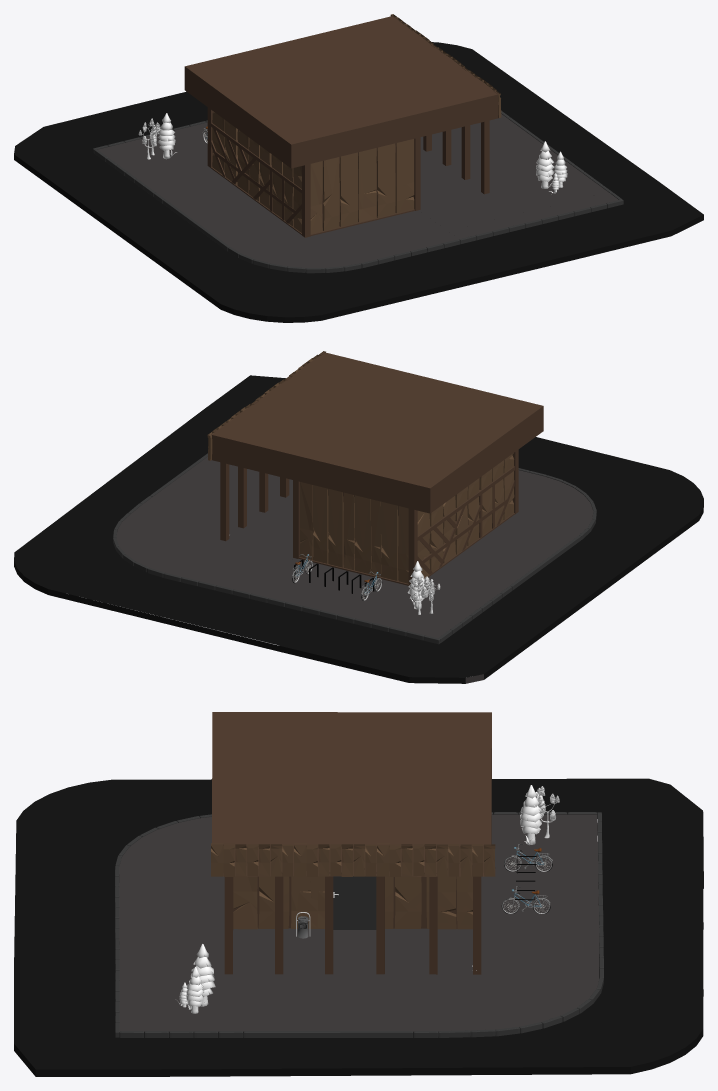
File: FahrradStation-transformed.glb
The picture shows the model from 3 angles, top to bottom: view 1: azimuth 30°, elevation 25°; view 2: azimuth 150°, elevation 25°; view 3: azimuth 270°, elevation 25°; orthographic projection. The views are drawn at different scales.
Visible parts, largest first — view 1: house.038; view 2: house.038; view 3: house.038.
Boxes of the visible parts, x1=… form: house.038: x1=14, y1=14, x2=703, y2=322; house.038: x1=14, y1=351, x2=703, y2=683; house.038: x1=14, y1=712, x2=703, y2=1076.
Bounding box in the file's own units: 27.93 × 6.5 × 27.99.
16 materials, 5 textured.
